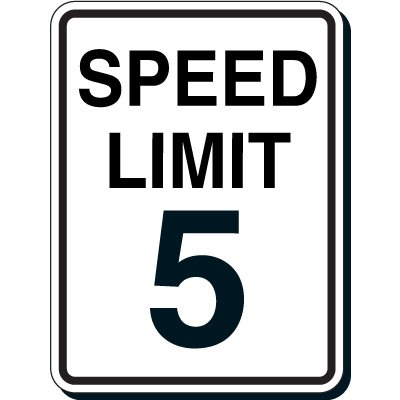speed limit: (47, 1, 352, 398)
